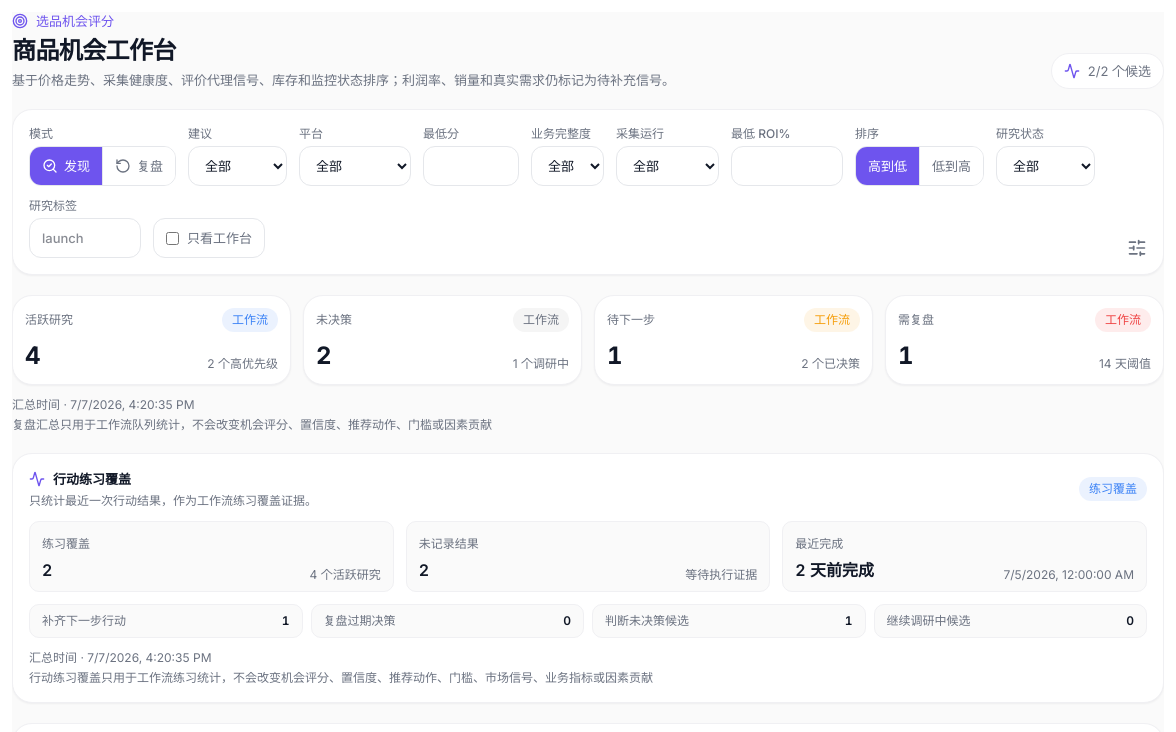
Opportunities page › clears practice action context when review summary cards apply filters
The width and height of the screenshot is (1176, 732).
Click the button with aria-label "筛选行动分桶：补齐下一步行动" at point(84, 620), box [29,604,302,638]
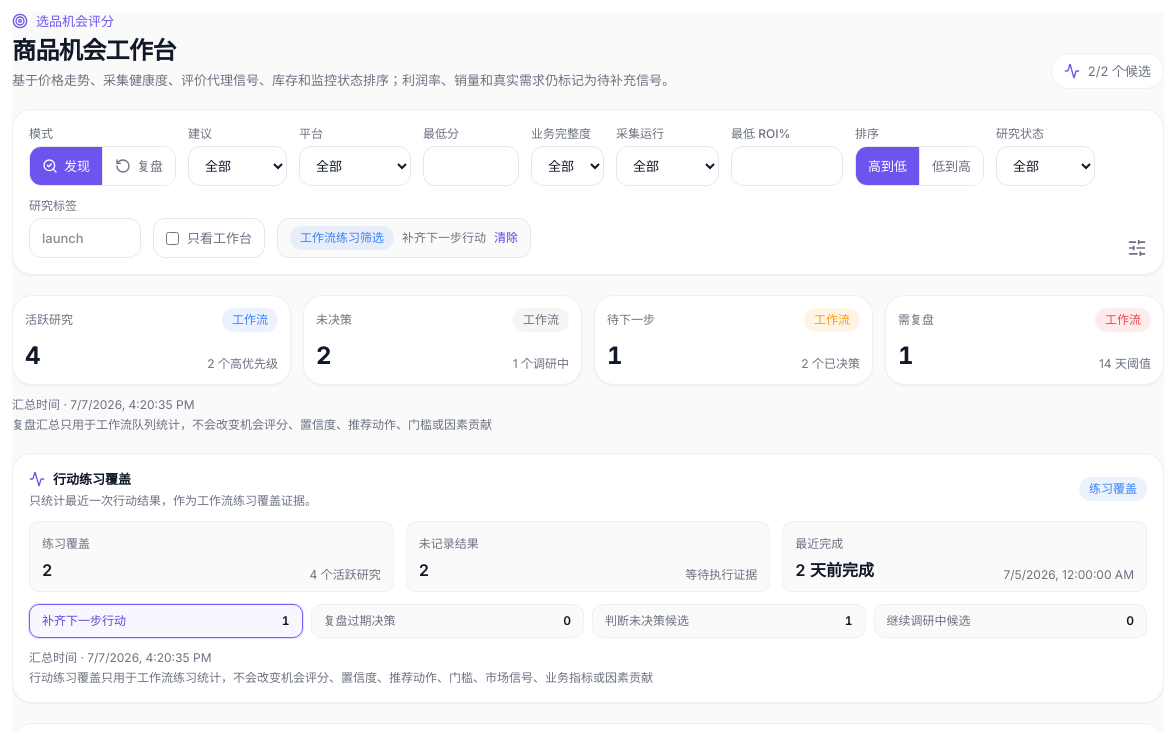
Now the text "工作流练习筛选" is shown, box [290,226,394,250]
Click the button with aria-label "筛选复盘汇总：需复盘" at point(916, 320), box [885,295,1164,385]
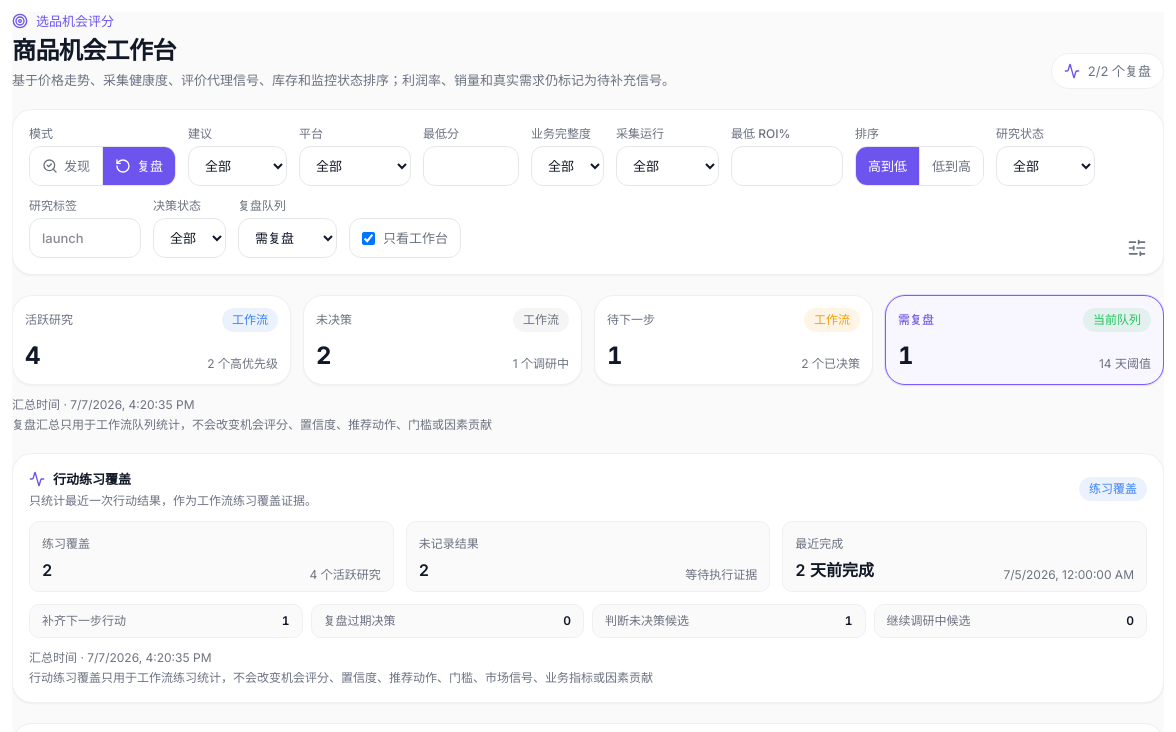
Now the text "工作流练习筛选" is gone
